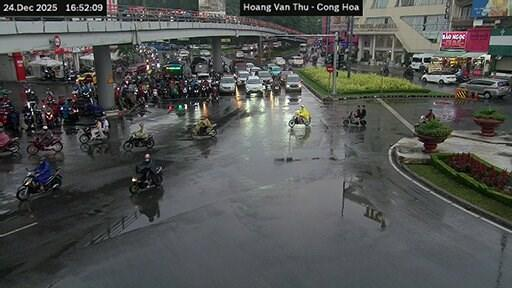motorbike: (16, 167, 58, 199), (128, 166, 162, 193), (26, 136, 61, 153), (79, 126, 108, 143), (122, 134, 153, 149), (342, 111, 365, 126), (192, 124, 216, 138), (0, 136, 18, 152), (288, 112, 310, 125), (22, 108, 34, 131), (60, 106, 77, 121), (25, 85, 37, 102), (44, 109, 54, 127), (413, 116, 425, 129), (41, 68, 54, 79), (199, 85, 208, 98), (272, 81, 280, 94), (403, 70, 412, 81), (455, 76, 470, 81), (265, 82, 271, 94)
